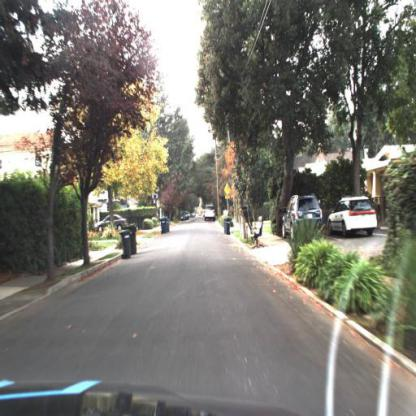car: (328, 192, 382, 235), (278, 192, 326, 240), (93, 208, 130, 236), (202, 198, 218, 222), (203, 204, 217, 223), (180, 210, 192, 224)
